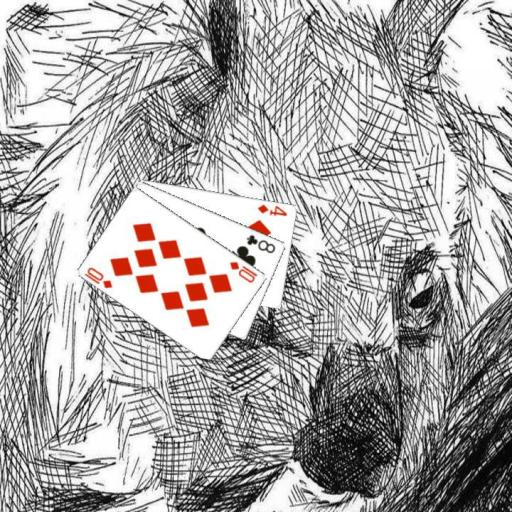10D: (81, 264, 115, 290), (227, 258, 259, 285)
4D: (255, 200, 289, 217)
8C: (244, 231, 278, 255)
